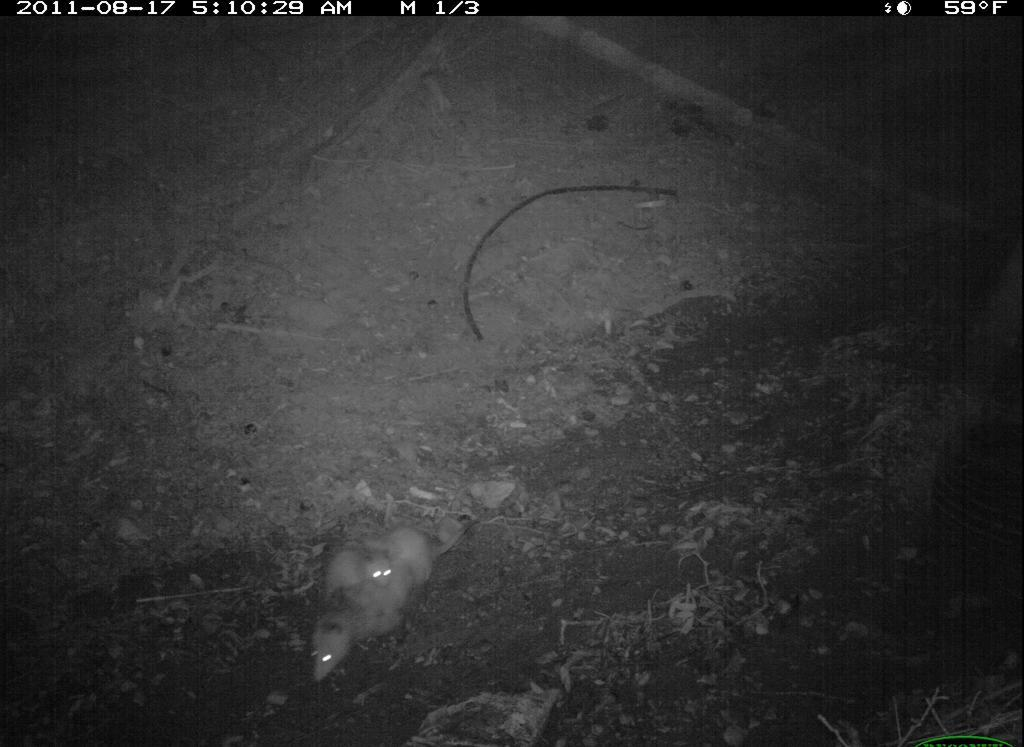opossum: (305, 508, 483, 687), (319, 539, 398, 598)
